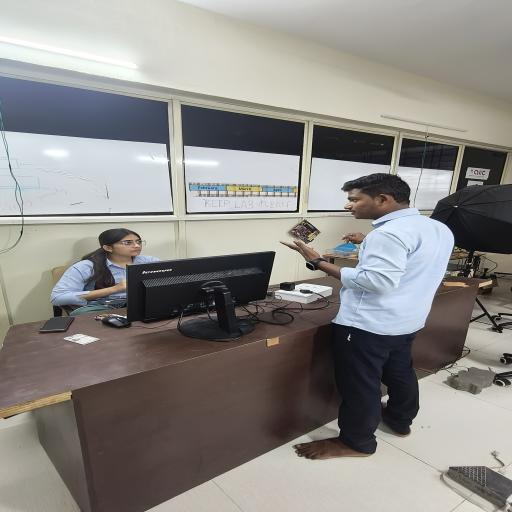survivor: (279, 172, 457, 460), (48, 228, 162, 316)
